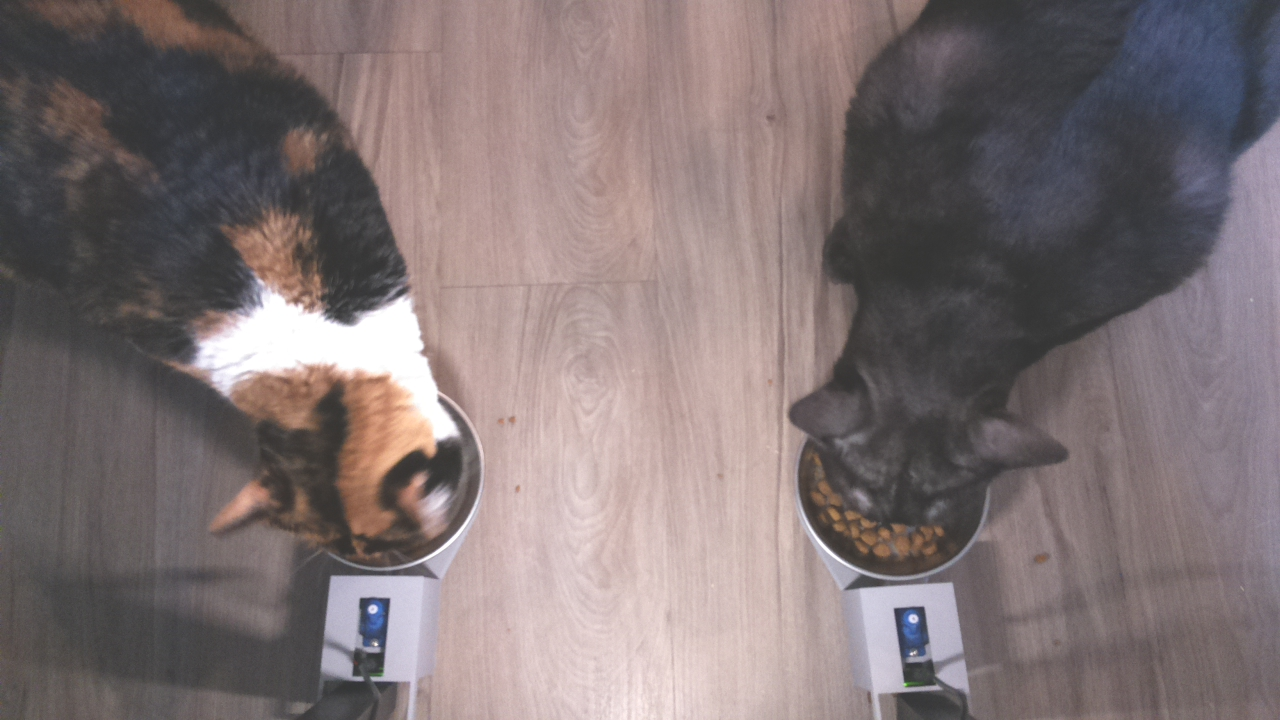bella_eating: (197, 271, 495, 575)
saki_eating: (771, 298, 1079, 584)
